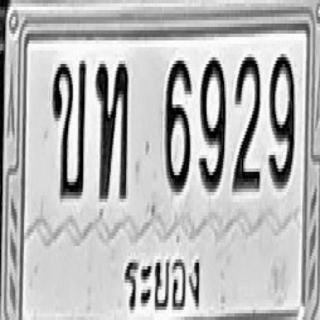A02: (51, 59, 86, 197)
A23: (95, 61, 128, 199)
N02: (232, 54, 260, 192)
N06: (164, 57, 191, 192)
N09: (199, 54, 226, 192), (268, 52, 295, 187)
P53: (121, 240, 204, 320)
